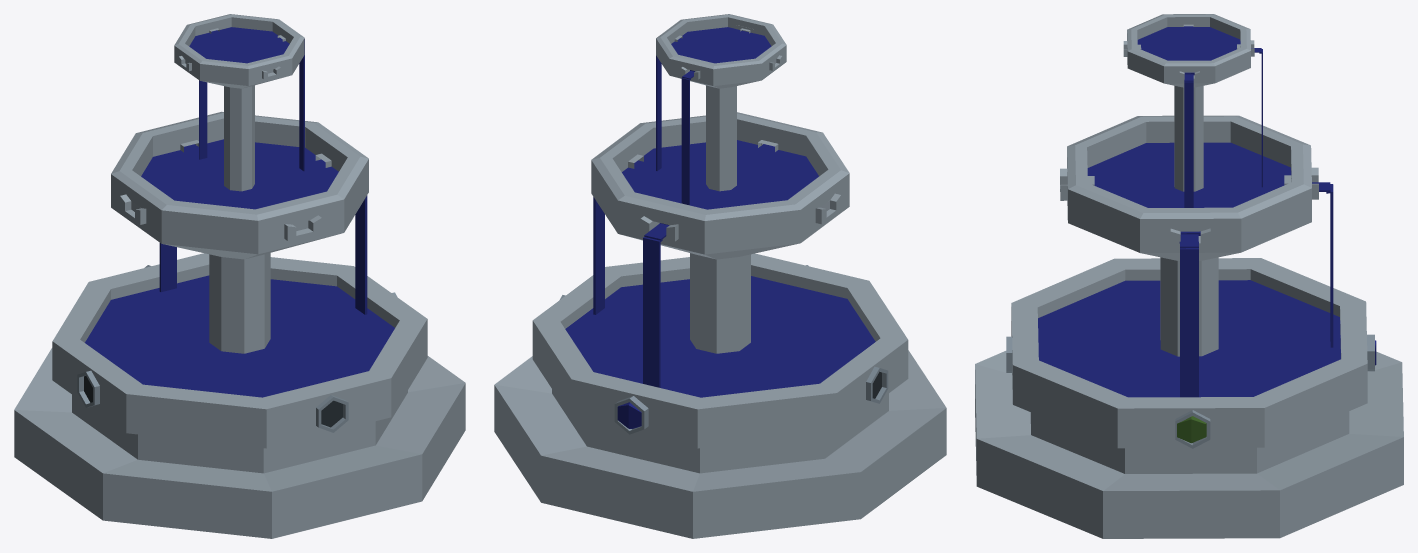
File: Fontaine2.obj
3 renders of one model, left to right at view 1: azimuth 30°, elevation 25°; view 2: azimuth 150°, elevation 25°; view 3: azimuth 270°, elevation 25°, orthographic.
Visible parts, largest first — view 1: Cylinder.103, Cylinder.100, Cylinder.101, Cylinder.102, Plane.075, Plane.074, Cylinder.097, Cylinder.098; view 2: Cylinder.103, Cylinder.100, Cylinder.101, Plane.074, Cylinder.102, Plane.075, Cylinder.098, Cylinder.099; view 3: Cylinder.103, Cylinder.100, Cylinder.101, Plane.075, Cylinder.102, Plane.074, Gem_4.001, Cylinder.096.
Boxes of the visible parts, x1=… form: Cylinder.103: x1=14, y1=14, x2=465, y2=538; Cylinder.100: x1=85, y1=275, x2=394, y2=397; Cylinder.101: x1=141, y1=139, x2=338, y2=209; Cylinder.102: x1=189, y1=27, x2=289, y2=63; Plane.075: x1=299, y1=39, x2=367, y2=314; Plane.074: x1=159, y1=80, x2=207, y2=292; Cylinder.097: x1=316, y1=395, x2=348, y2=432; Cylinder.098: x1=77, y1=370, x2=99, y2=407; Cylinder.103: x1=494, y1=14, x2=946, y2=538; Cylinder.100: x1=565, y1=276, x2=875, y2=397; Cylinder.101: x1=622, y1=140, x2=818, y2=225; Plane.074: x1=643, y1=70, x2=694, y2=387; Cylinder.102: x1=671, y1=27, x2=771, y2=71; Plane.075: x1=593, y1=55, x2=661, y2=314; Cylinder.098: x1=866, y1=366, x2=888, y2=403; Cylinder.099: x1=614, y1=396, x2=648, y2=434; Cylinder.103: x1=975, y1=14, x2=1403, y2=538; Cylinder.100: x1=1038, y1=280, x2=1340, y2=397; Cylinder.101: x1=1087, y1=142, x2=1291, y2=235; Plane.075: x1=1179, y1=74, x2=1198, y2=397; Cylinder.102: x1=1137, y1=26, x2=1240, y2=75; Plane.074: x1=1251, y1=48, x2=1333, y2=347; Gem_4.001: x1=1177, y1=416, x2=1206, y2=443; Cylinder.096: x1=1175, y1=410, x2=1210, y2=448.
Size of the model in its own units: 4.75 by 5 by 4.75.
Materials: 1 (1 with a texture image).
